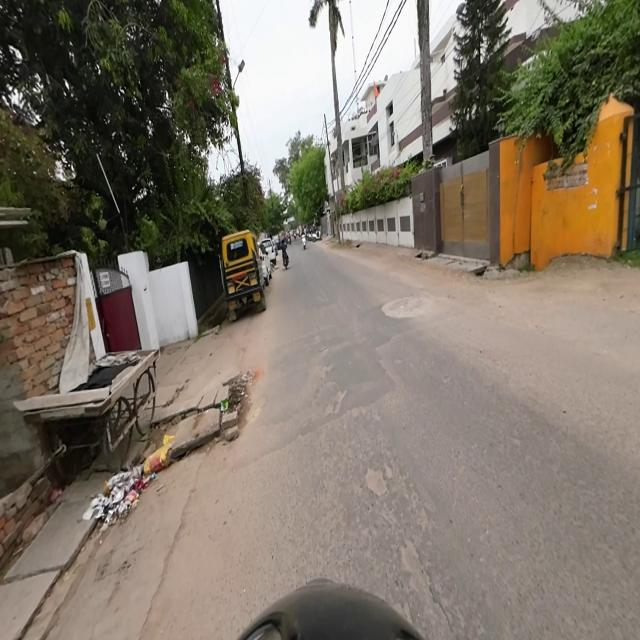Garbage: (87, 471, 154, 527)
